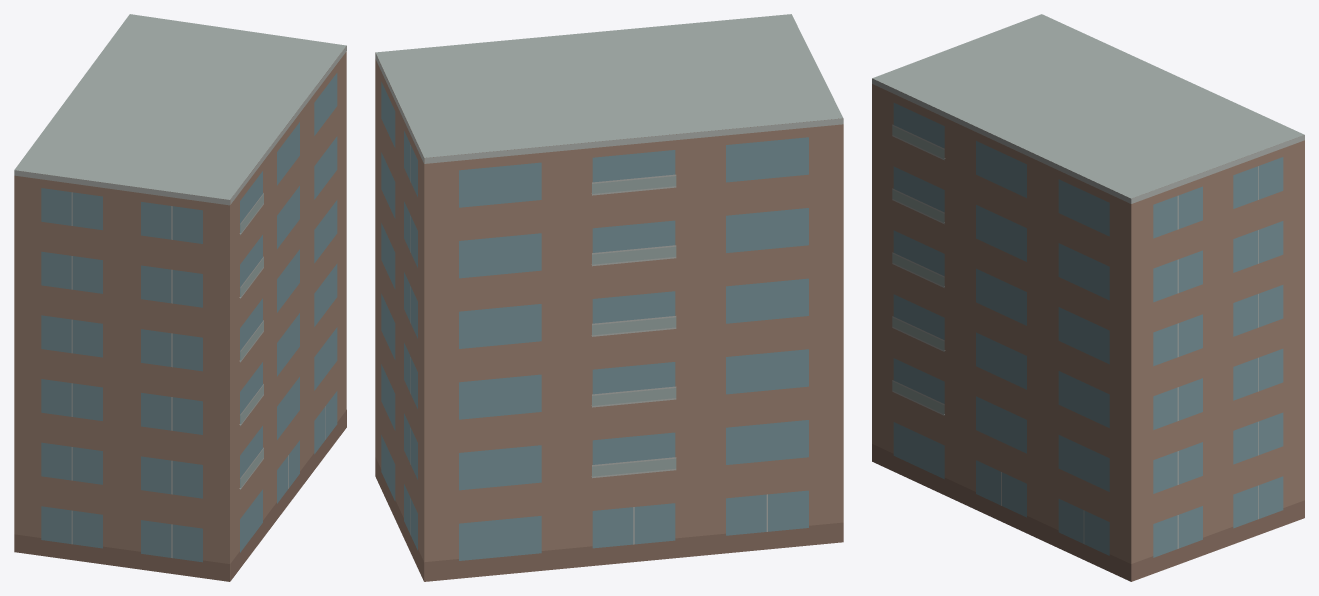
The model's file is survey-upis-32877205.glb.
3 views of the same model, side by side, from view 1: azimuth 30°, elevation 25°; view 2: azimuth 150°, elevation 25°; view 3: azimuth 270°, elevation 25° (orthographic). The views are drawn at different scales.
Parts seen in each view (by area): view 1: survey-upis-32877205.tmp; view 2: survey-upis-32877205.tmp; view 3: survey-upis-32877205.tmp.
Part boxes in pixels (x1,y1,x2,y2): survey-upis-32877205.tmp: (14, 14, 346, 581); survey-upis-32877205.tmp: (375, 14, 843, 581); survey-upis-32877205.tmp: (872, 14, 1304, 581).
Size of the model in its own units: 17.68 by 17.1 by 17.51.
